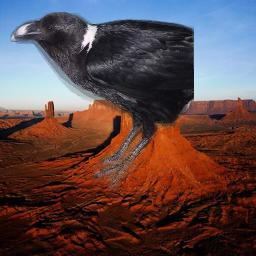Crow: (10, 11, 194, 191)
